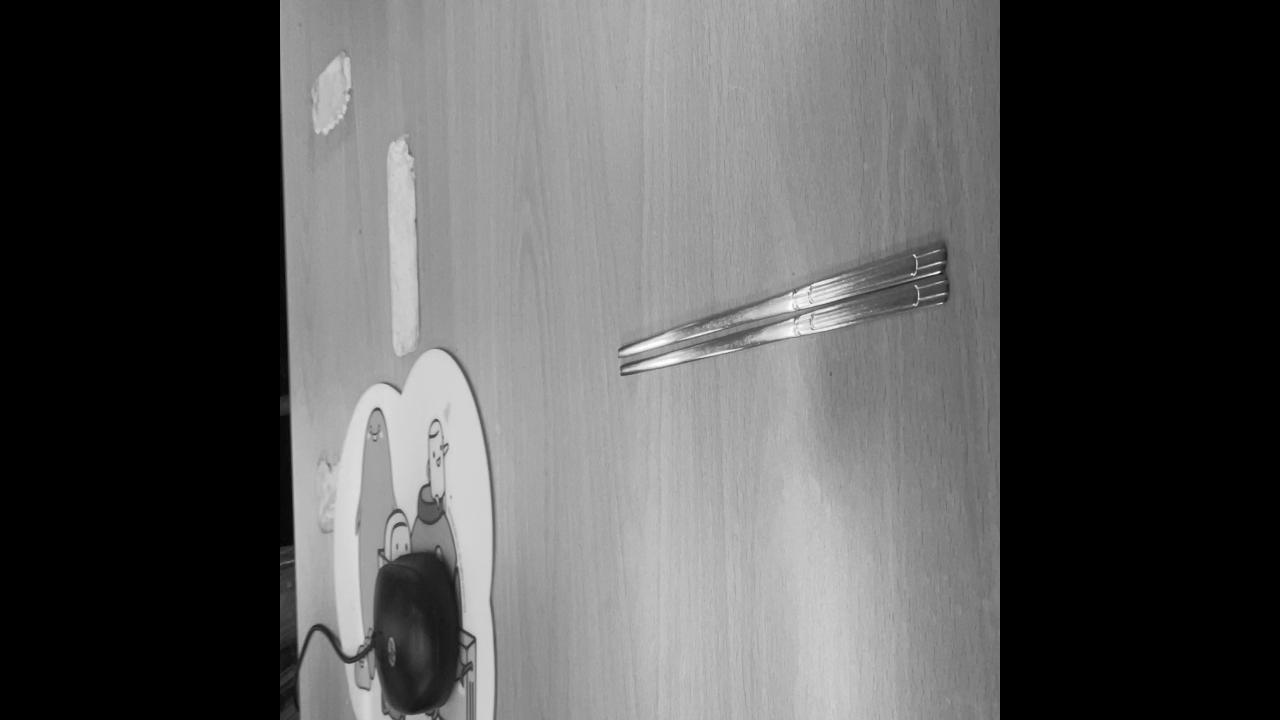chopstick: (617, 240, 953, 382)
